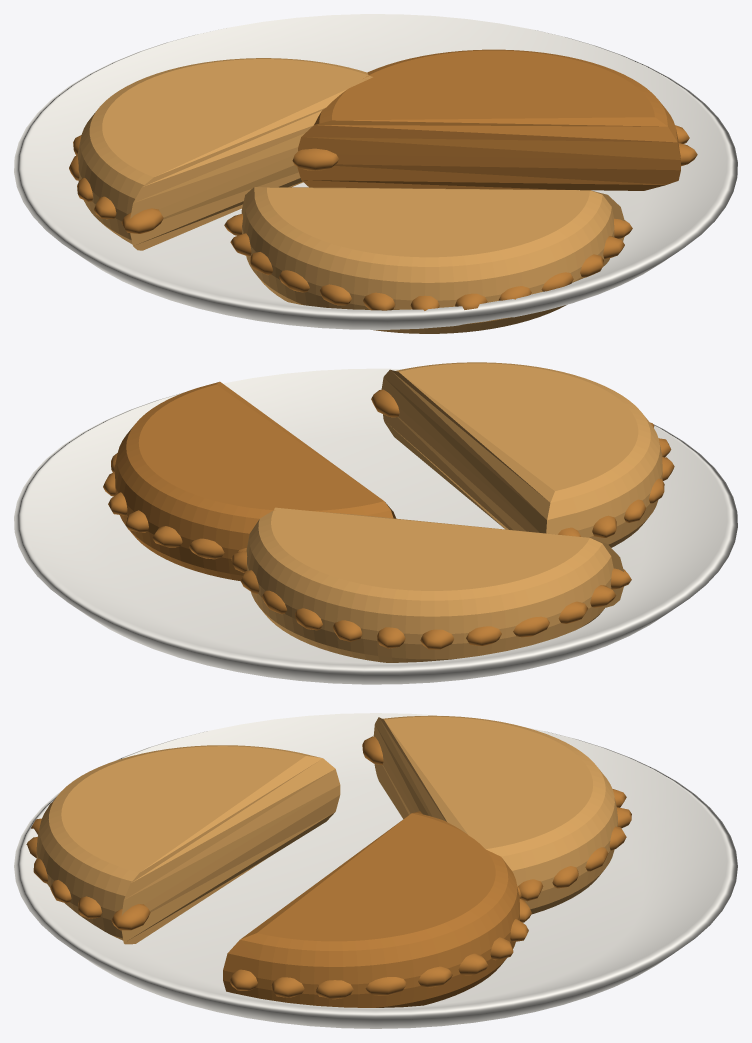
File: empanadas.glb
The picture shows the model from 3 angles, top to bottom: view 1: azimuth 30°, elevation 25°; view 2: azimuth 150°, elevation 25°; view 3: azimuth 270°, elevation 25°; orthographic projection.
Size of the model in its own units: 0.26 by 0.035 by 0.26.
